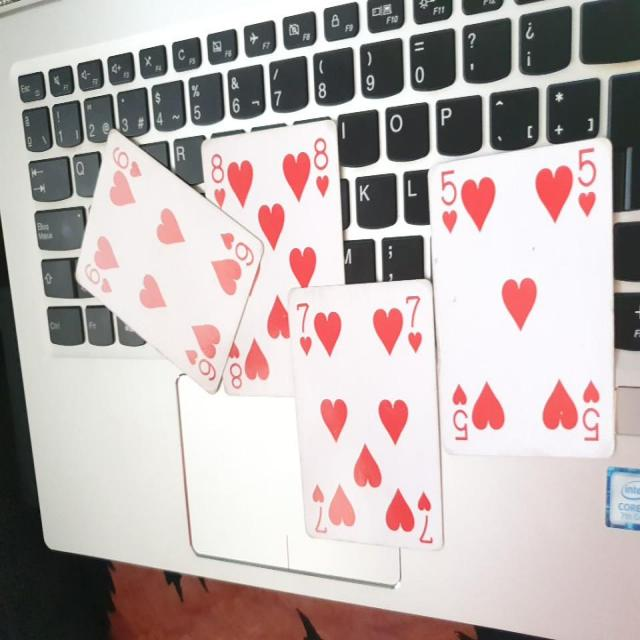5 Hearts: (423, 125, 622, 466)
6 Hearts: (77, 127, 260, 397)
7 Hearts: (285, 279, 449, 557)
8 Hearts: (198, 116, 351, 400)
